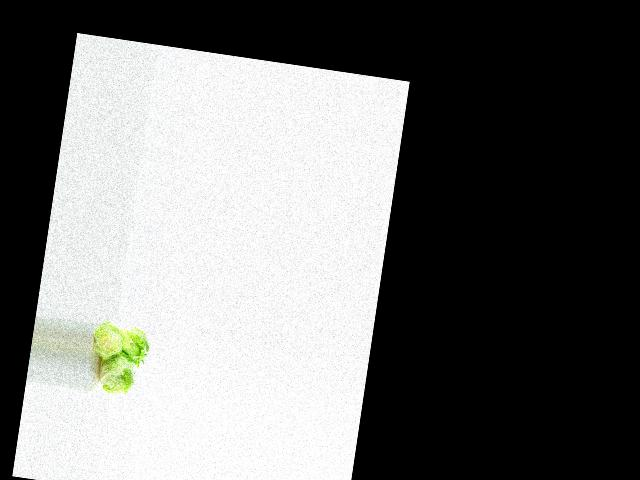lettuce: (116, 324, 155, 371)
